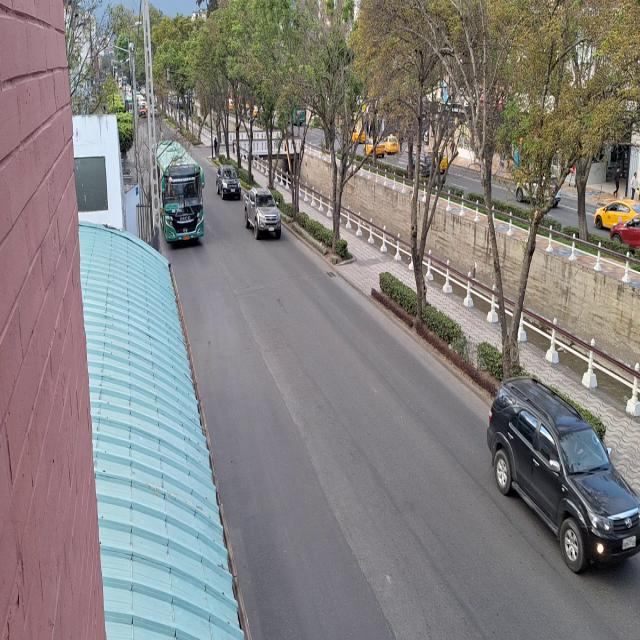BUS: (164, 158, 208, 247)
CMT: (244, 188, 281, 239)
SUV: (488, 376, 639, 568), (217, 166, 240, 199)
